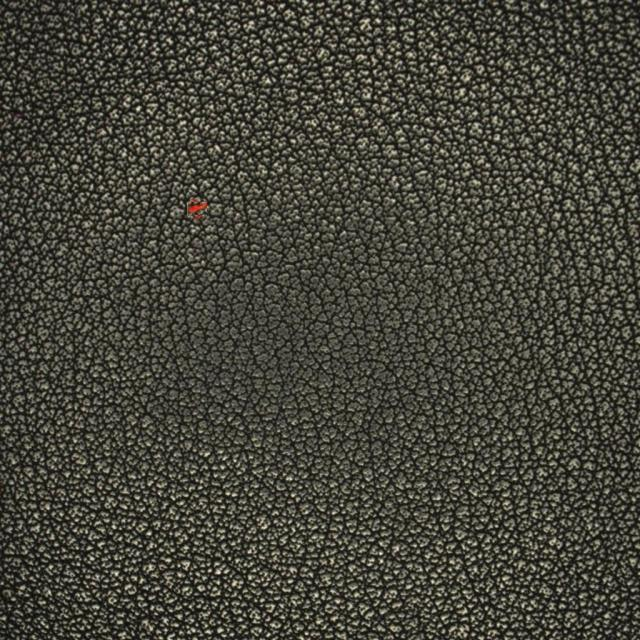Hole: (127, 117, 261, 310)
